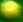yellow: (0, 0, 23, 22)
